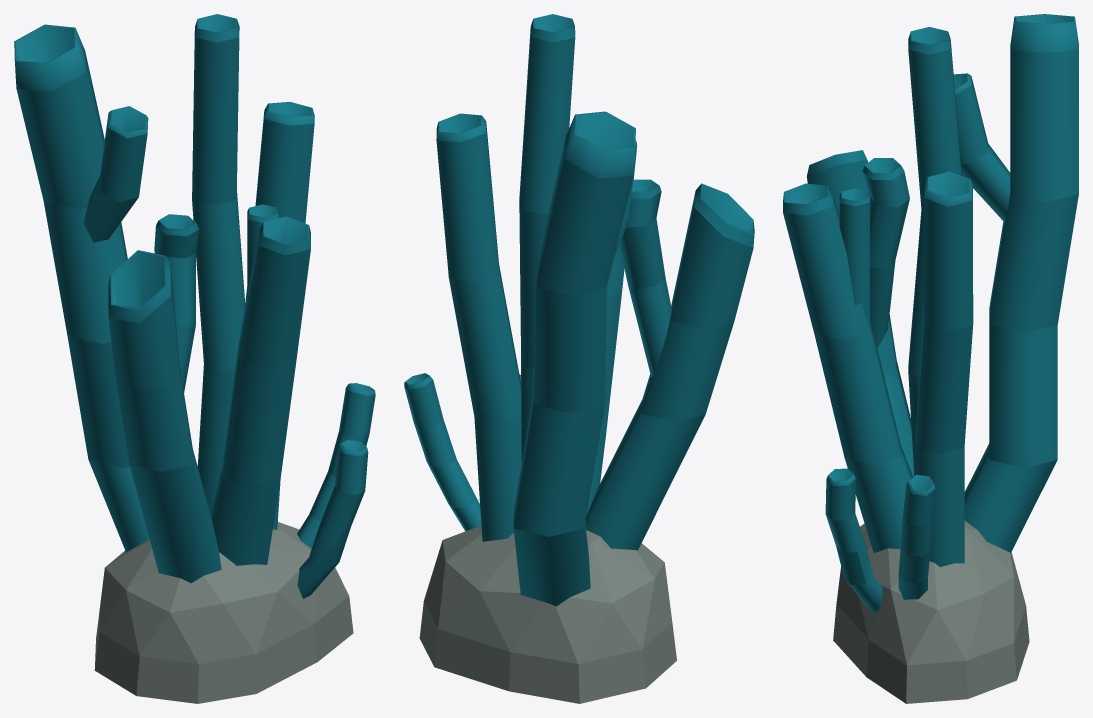
File: Water 1.fbx
3 views of the same model, side by side, from view 1: azimuth 30°, elevation 25°; view 2: azimuth 150°, elevation 25°; view 3: azimuth 270°, elevation 25° (orthographic). The views are drawn at different scales.
Visible parts, largest first — view 1: Cylinder006, Rock_Round_s_02, Cylinder009, Cylinder004, Cylinder005, Cylinder007, Cylinder003, Object001; view 2: Cylinder006, Rock_Round_s_02, Cylinder009, Cylinder007, Cylinder005, Object001, Cylinder004; view 3: Cylinder006, Rock_Round_s_02, Cylinder004, Cylinder007, Cylinder009, Cylinder005, Cylinder003, Object001.
Part boxes in pixels (box(x1,y1,x2,y2)): Cylinder006: box(14, 24, 149, 552); Rock_Round_s_02: box(94, 522, 353, 703); Cylinder009: box(108, 214, 221, 583); Cylinder004: box(210, 204, 310, 565); Cylinder005: box(192, 14, 245, 513); Cylinder007: box(245, 102, 314, 529); Cylinder003: box(297, 439, 368, 598); Object001: box(297, 383, 375, 548); Cylinder006: box(513, 111, 637, 606); Rock_Round_s_02: box(419, 521, 676, 703); Cylinder009: box(585, 179, 754, 550); Cylinder007: box(436, 113, 521, 541); Cylinder005: box(519, 14, 575, 462); Object001: box(404, 373, 481, 531); Cylinder004: box(586, 152, 636, 515); Cylinder006: box(953, 14, 1078, 553); Rock_Round_s_02: box(833, 521, 1029, 703); Cylinder004: box(783, 183, 912, 552); Cylinder007: box(915, 171, 973, 567); Cylinder009: box(807, 150, 914, 476); Cylinder005: box(908, 27, 961, 475); Cylinder003: box(825, 468, 882, 613); Object001: box(898, 474, 935, 599).
Bounding box in the file's own units: 38.77 × 77.17 × 33.65.
